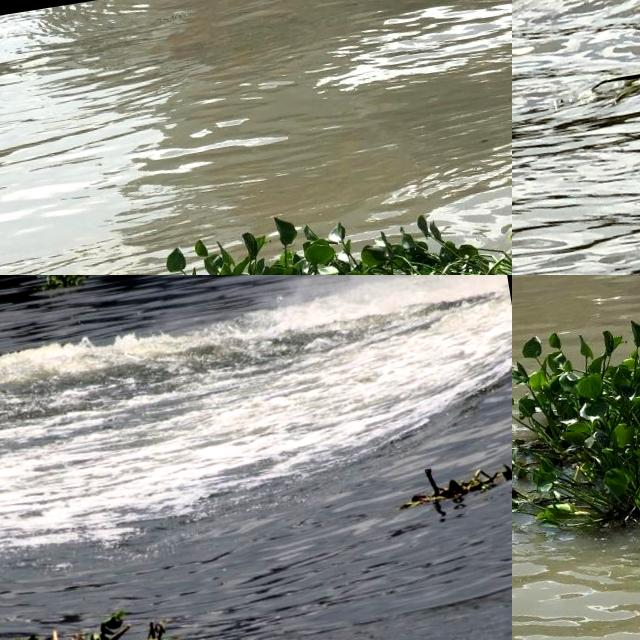water-hyacinth: (513, 302, 640, 566), (96, 198, 509, 276), (358, 207, 513, 276), (400, 447, 513, 517), (1, 598, 170, 640), (586, 26, 640, 112)
